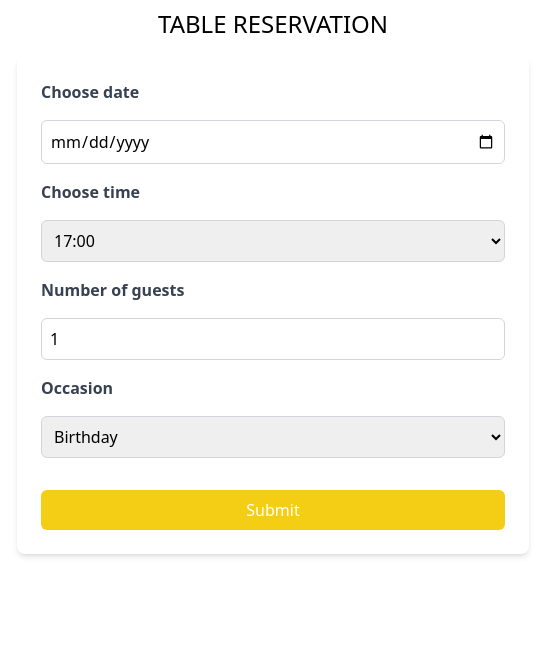
Test: BookingForm Validation › validates guests input is a positive number
Type "-1" into the number field labelled "Number of guests" at (273, 339), box [41,318,505,360]
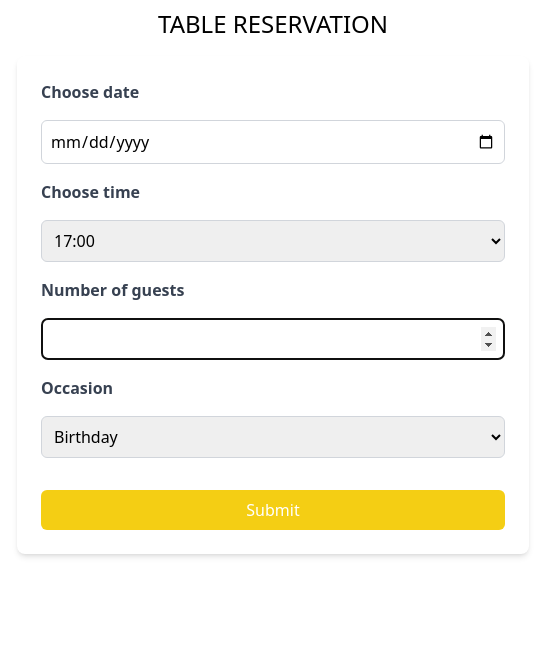
Click the button "Submit" at (273, 510), box [41,490,505,530]
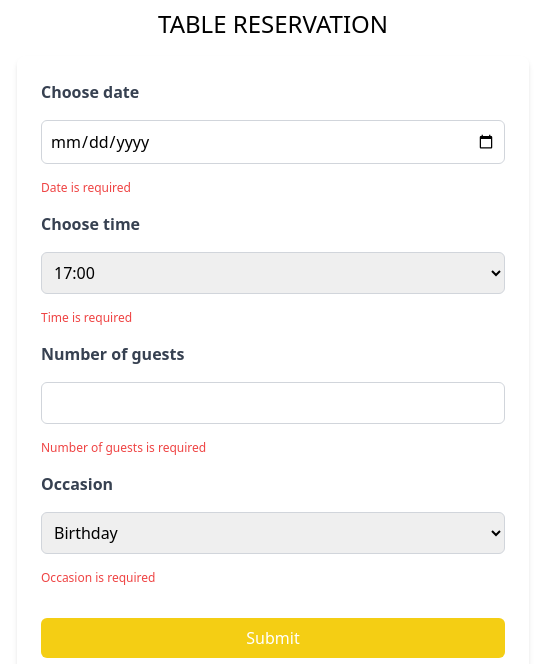
Check: the text "Number of guests is required" is shown, box [41,439,206,456]
